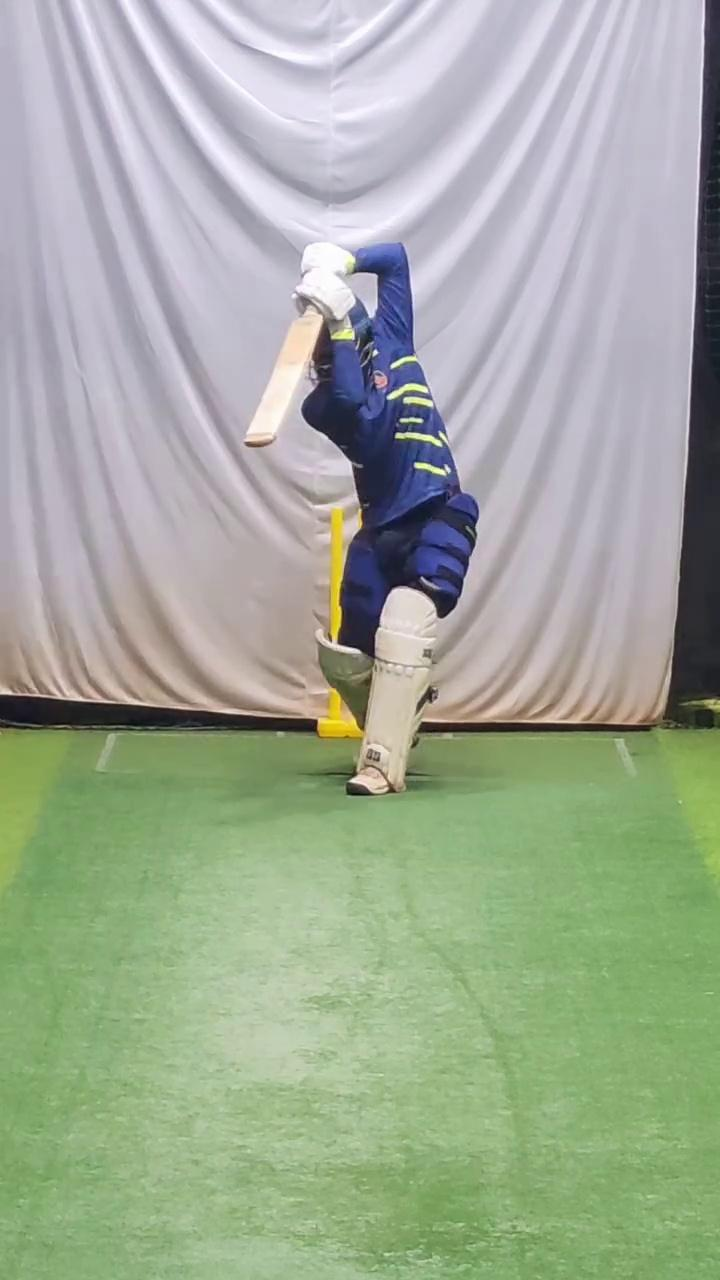bat: (241, 305, 324, 456)
